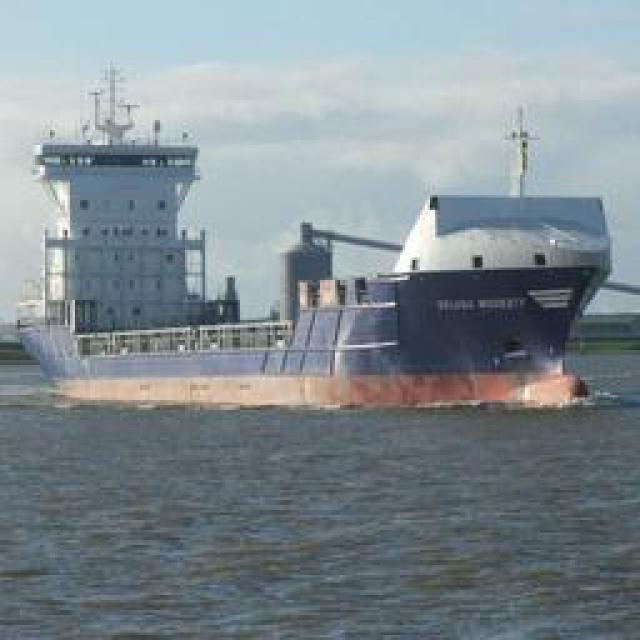ship2: (16, 70, 611, 410)
